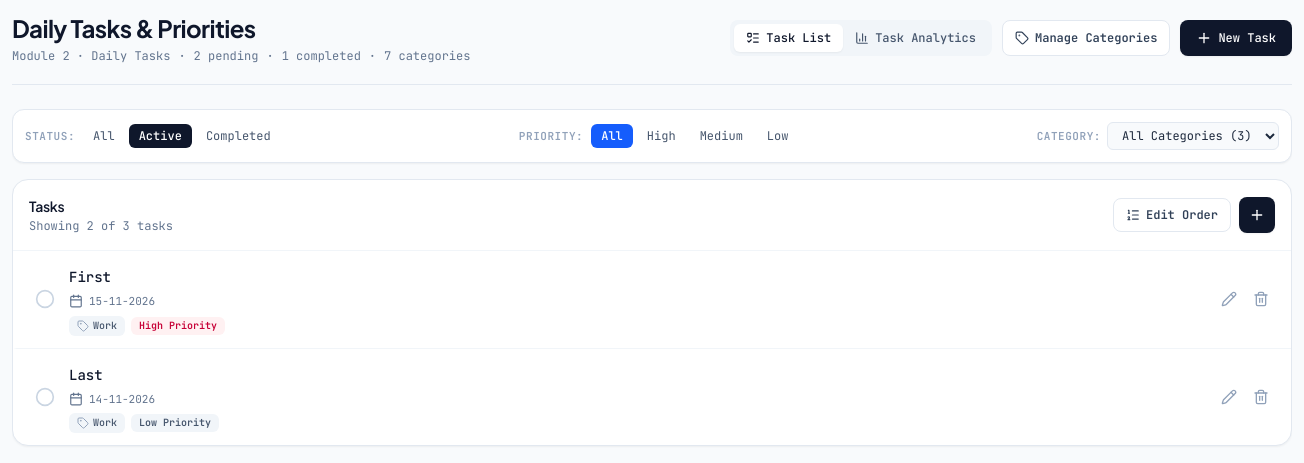
Scenario: task ordering › edits order, saves moves and restores edit/delete actions on Done
Click the button "Edit Order" at (1172, 215), box [1113,198,1231,232]
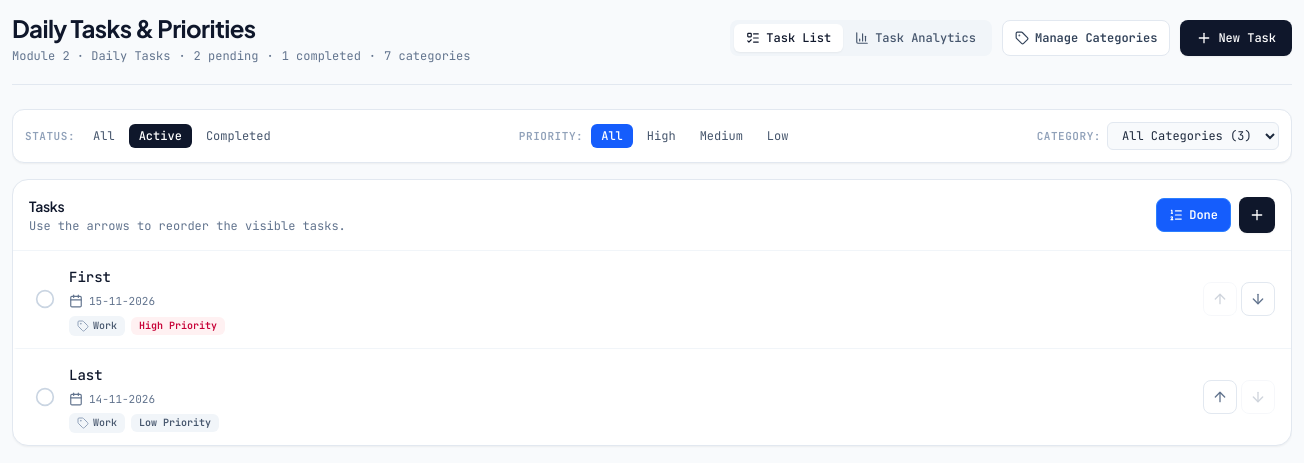
Result: the button named "Move First up" is disabled at [1203,282,1237,316]
Click the button named "Move First down" at (1258, 299), box [1241,282,1275,316]
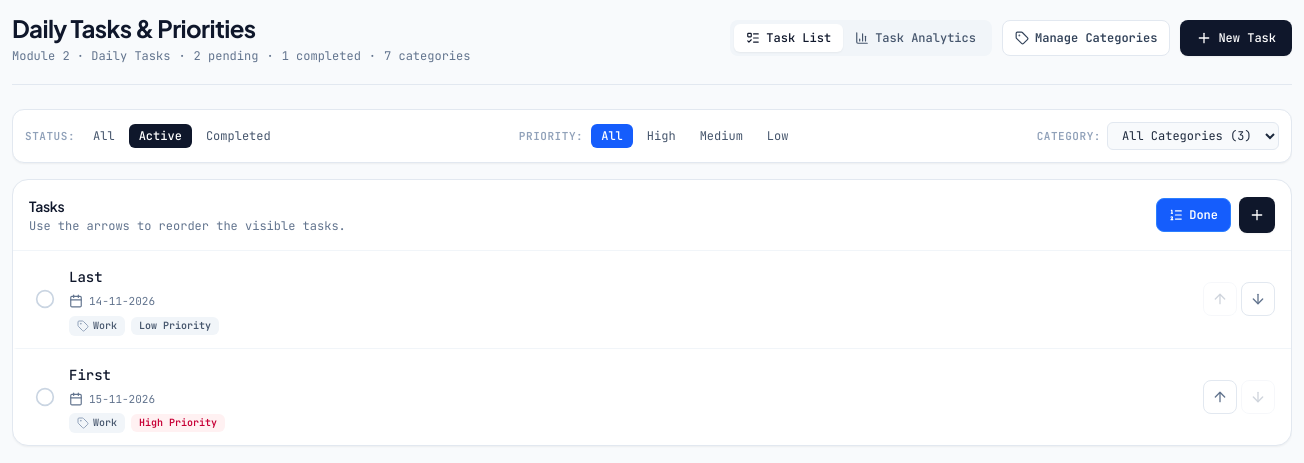
Expected: the button named "Move Last up" is disabled, [1203,282,1237,316]
Click the button "Done" at (1194, 215), box [1156,198,1231,232]
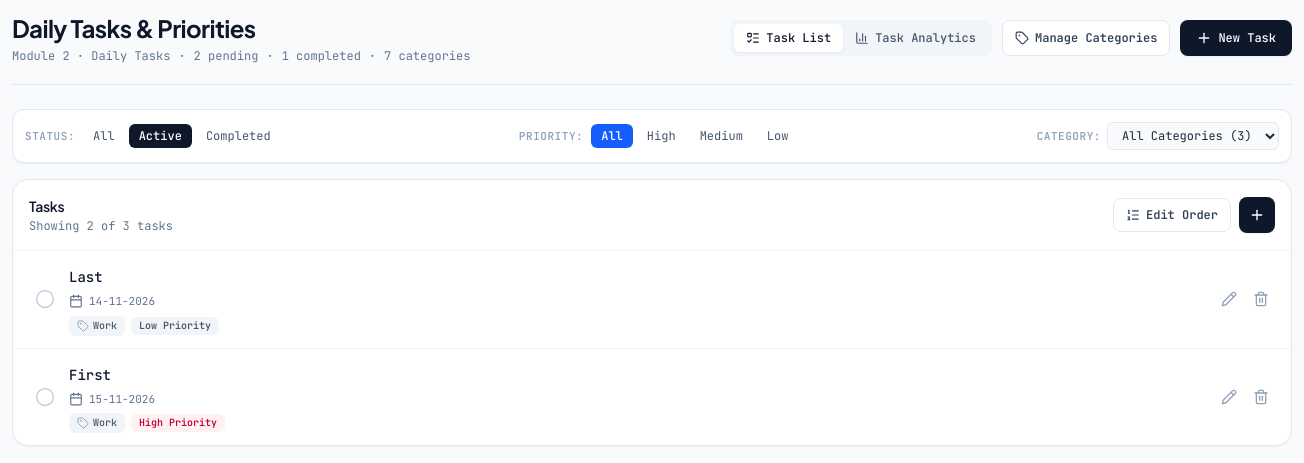
Result: the button named "Edit First" is shown at [1215,383,1243,411]
